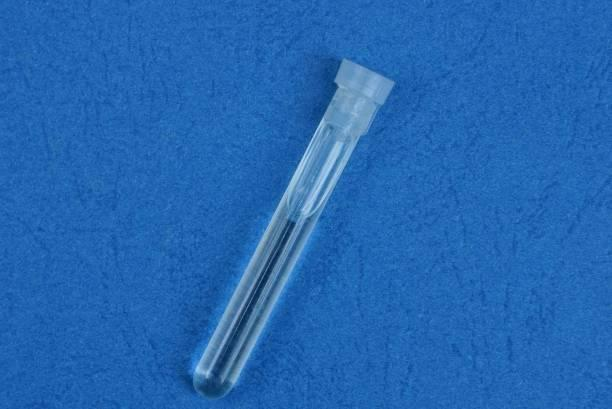Test tube: (149, 31, 425, 406)
